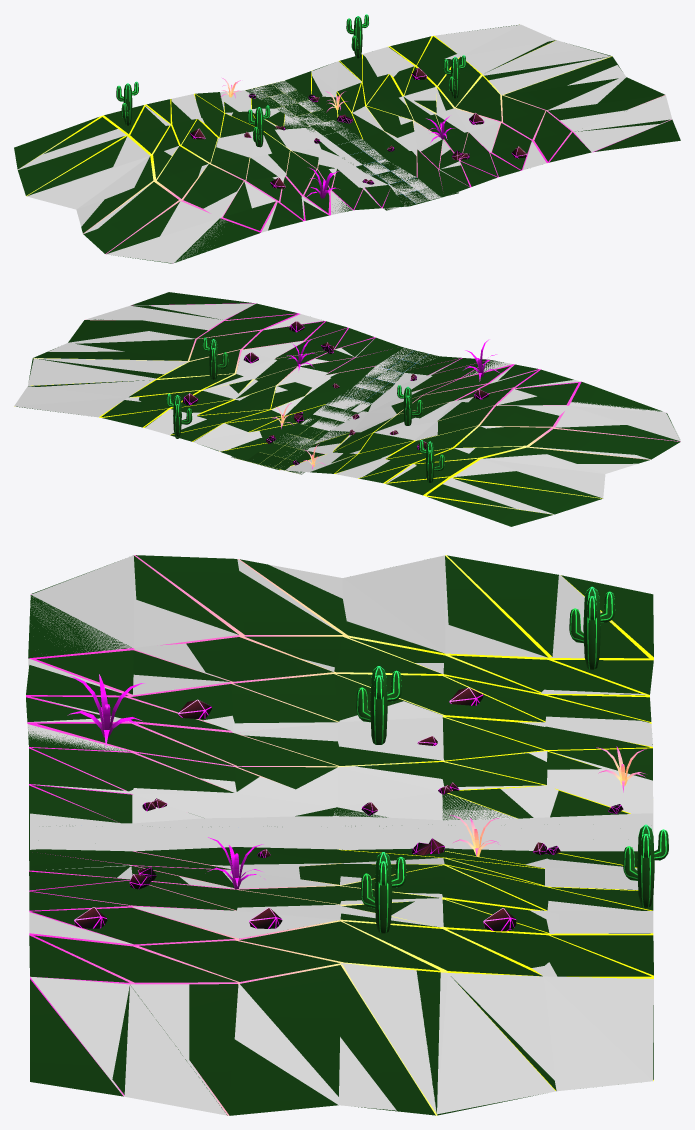
The model's file is Terrain_Desert_End_1.fbx.
3 renders of one model, top to bottom at view 1: azimuth 30°, elevation 25°; view 2: azimuth 150°, elevation 25°; view 3: azimuth 270°, elevation 25°, orthographic. The views are drawn at different scales.
Visible parts, largest first — view 1: Terrain_Desert_End_1, Terrain_Desert_End_1_Colider; view 2: Terrain_Desert_End_1, Terrain_Desert_End_1_Colider; view 3: Terrain_Desert_End_1, Terrain_Desert_End_1_Colider.
Boxes of the visible parts, x1,y1,x2,y2 form: Terrain_Desert_End_1: (14, 14, 680, 263); Terrain_Desert_End_1_Colider: (18, 24, 672, 263); Terrain_Desert_End_1: (14, 292, 680, 526); Terrain_Desert_End_1_Colider: (14, 303, 680, 514); Terrain_Desert_End_1: (26, 555, 668, 1115); Terrain_Desert_End_1_Colider: (27, 555, 653, 1115).
Bounding box in the file's own units: 9752 × 860 × 4742.
